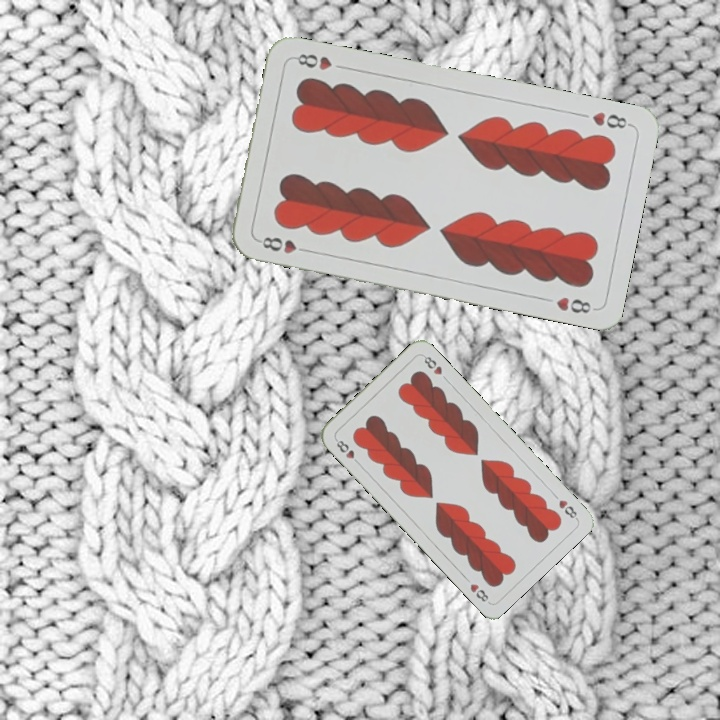H8: (254, 232, 313, 256), (588, 108, 634, 132), (331, 435, 363, 468), (555, 496, 580, 522)
